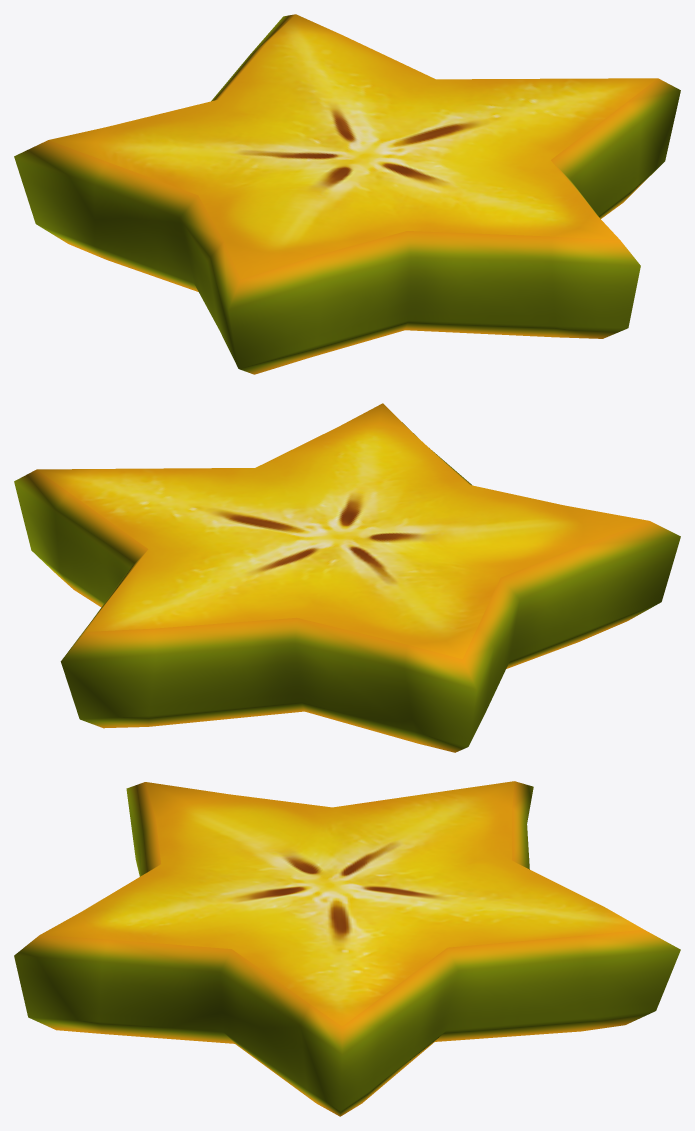
File: Starfruit_Slice.fbx
3 renders of one model, top to bottom at view 1: azimuth 30°, elevation 25°; view 2: azimuth 150°, elevation 25°; view 3: azimuth 270°, elevation 25°, orthographic. The views are drawn at different scales.
Visible parts, largest first — view 1: Starfruit_Slice; view 2: Starfruit_Slice; view 3: Starfruit_Slice.
Boxes of the visible parts, box(x1,y1,x2,y2) form: Starfruit_Slice: box(14, 14, 680, 374); Starfruit_Slice: box(14, 403, 680, 752); Starfruit_Slice: box(14, 781, 680, 1116).
Size of the model in its own units: 35.75 by 6.18 by 37.61.
